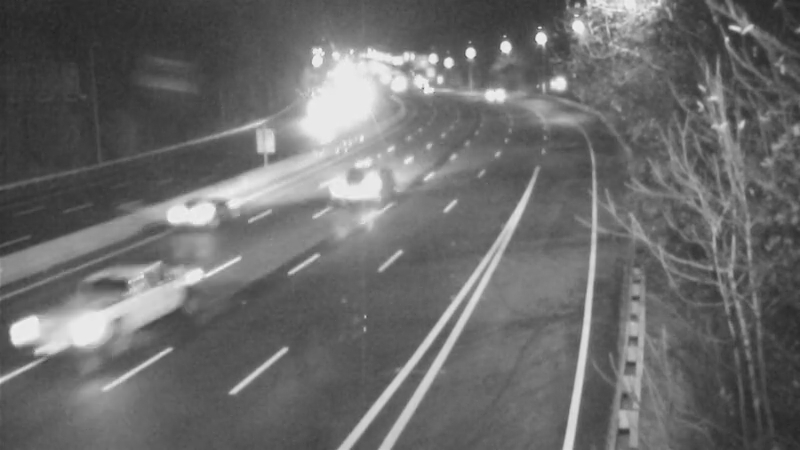vehicle: (25, 260, 135, 370), (312, 146, 392, 226), (153, 169, 233, 249), (391, 55, 441, 105), (358, 54, 408, 104), (371, 60, 421, 110), (407, 65, 457, 115), (469, 67, 519, 117), (289, 93, 339, 143)
